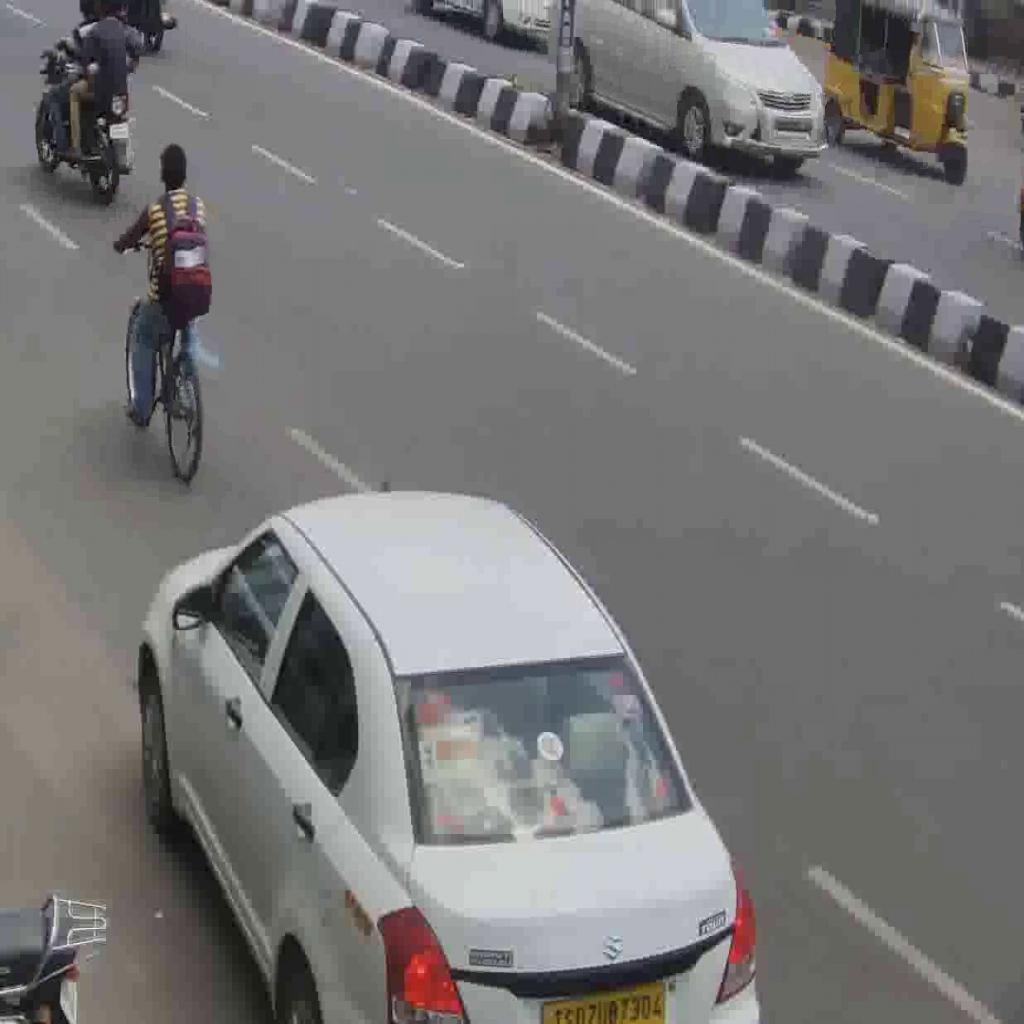helmet: (34, 33, 138, 203)
